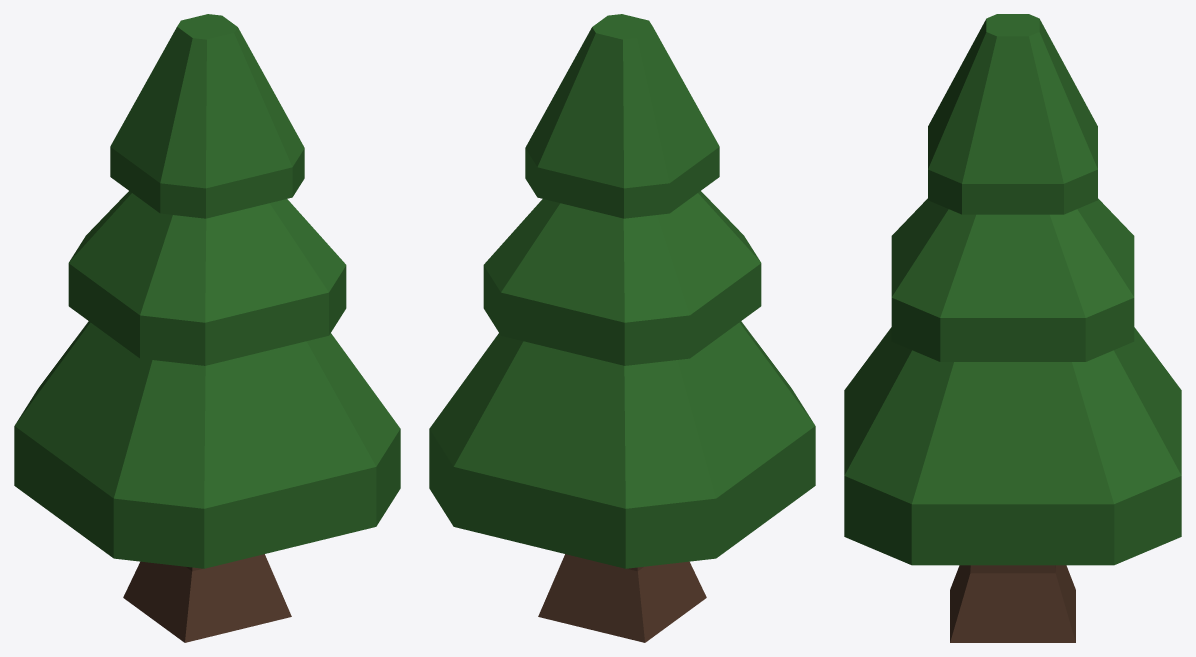
File: pine_small.glb
The picture shows the model from 3 angles, left to right: view 1: azimuth 30°, elevation 25°; view 2: azimuth 150°, elevation 25°; view 3: azimuth 270°, elevation 25°; orthographic projection.
Visible parts, largest first — view 1: tree_pineSmallA; view 2: tree_pineSmallA; view 3: tree_pineSmallA.
Boxes of the visible parts, <box> form: tree_pineSmallA: <box>14,14,400,642</box>; tree_pineSmallA: <box>429,14,815,642</box>; tree_pineSmallA: <box>844,14,1181,642</box>.
Bounding box in the file's own units: 2.07 × 4 × 2.07.
